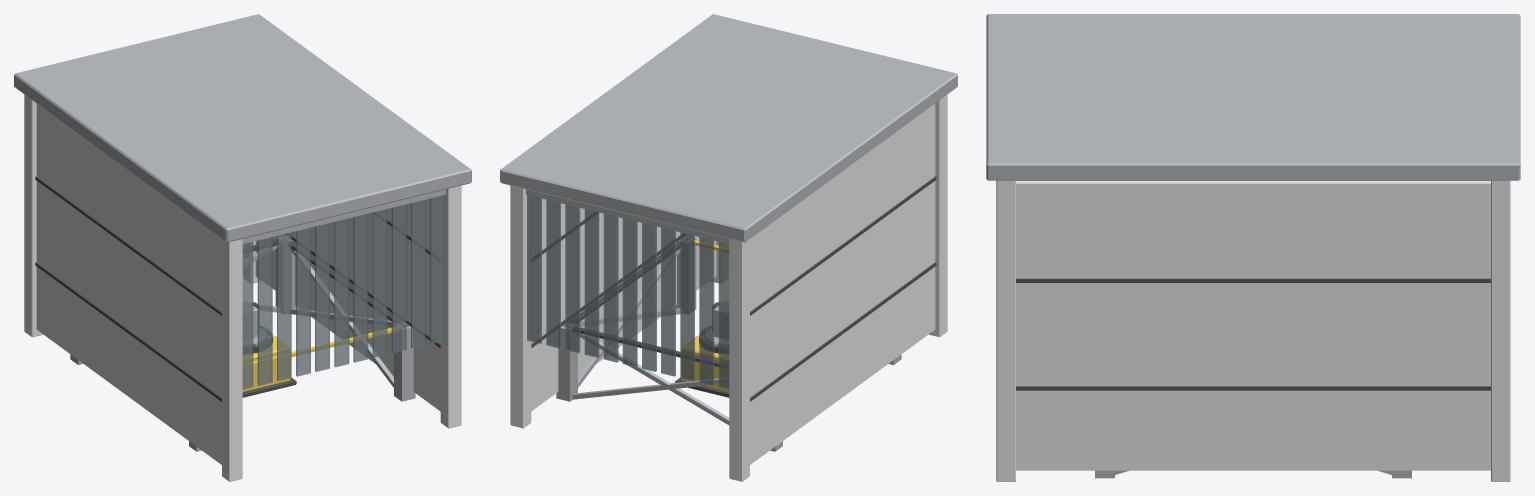
File: factory_line.glb
The picture shows the model from 3 angles, left to right: view 1: azimuth 30°, elevation 25°; view 2: azimuth 150°, elevation 25°; view 3: azimuth 270°, elevation 25°; orthographic projection. The views are drawn at different scales.
Visible parts, largest first — view 1: fl_booth_mesh, fl_shaft_mesh, fl_pedestal_mesh, fl_column_mesh; view 2: fl_booth_mesh, fl_shaft_mesh, fl_pedestal_mesh, fl_column_mesh; view 3: fl_booth_mesh.
Part boxes in pixels (x1,y1,x2,y2): fl_booth_mesh: [14, 14, 471, 481]; fl_shaft_mesh: [70, 236, 415, 451]; fl_pedestal_mesh: [242, 326, 296, 397]; fl_column_mesh: [243, 301, 258, 339]; fl_booth_mesh: [500, 14, 957, 481]; fl_shaft_mesh: [556, 236, 901, 451]; fl_pedestal_mesh: [675, 326, 729, 397]; fl_column_mesh: [713, 301, 728, 339]; fl_booth_mesh: [986, 14, 1520, 481].
Size of the model in its own units: 3.6 by 3.7 by 5.4.
